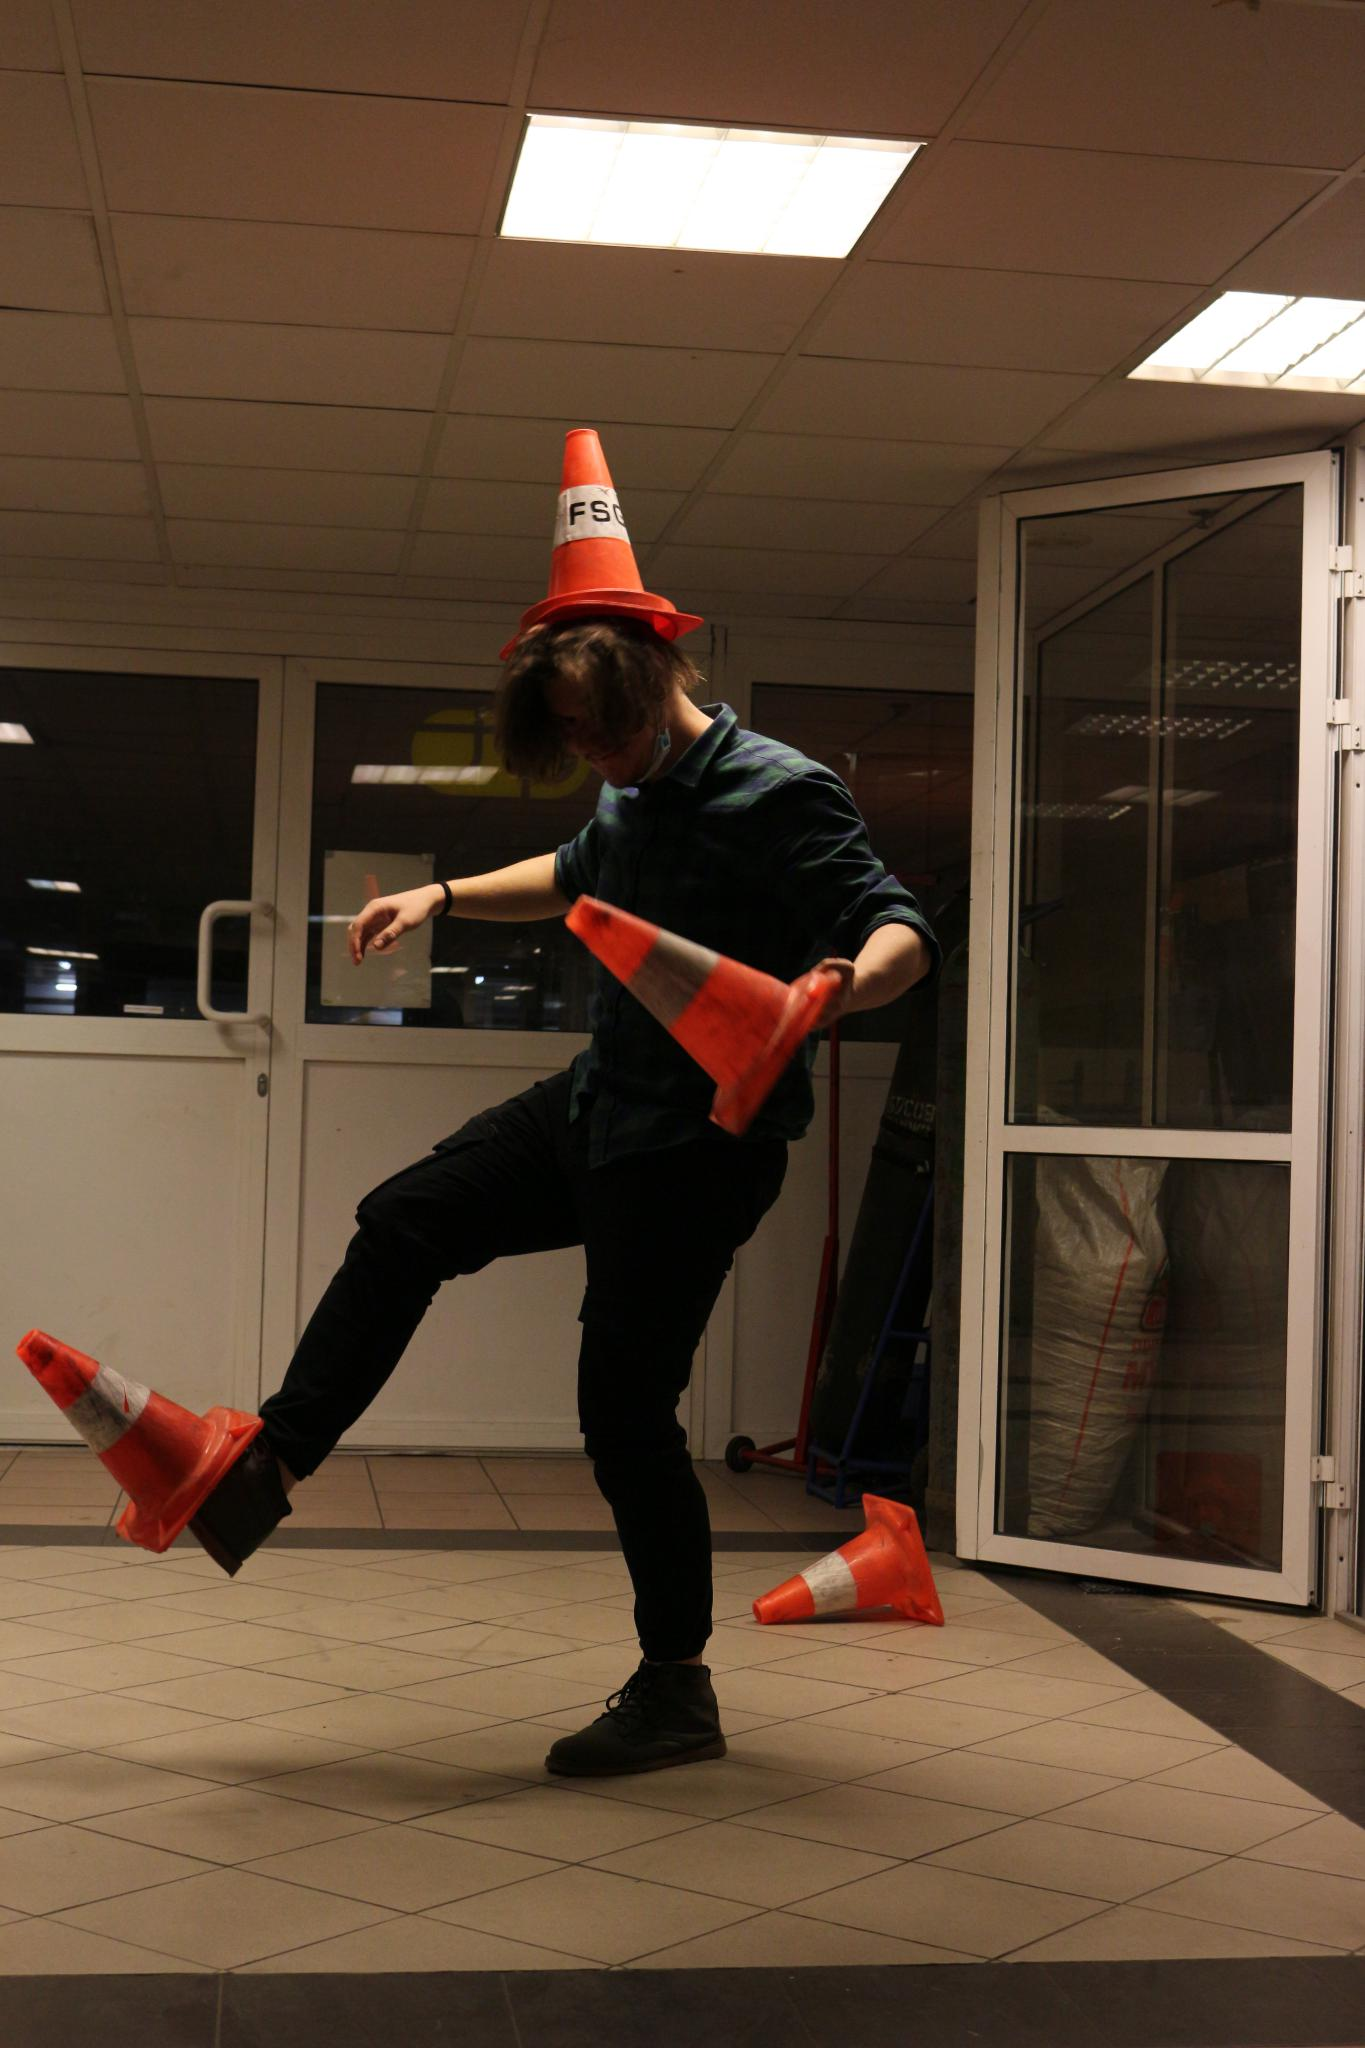Orange_Cone: (558, 885, 824, 1115), (5, 1322, 233, 1533), (504, 423, 689, 635), (739, 1497, 945, 1637)
